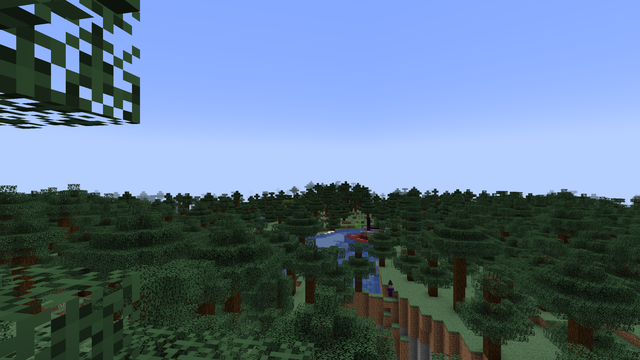slimes: (394, 283, 398, 288)
sorcieres: (388, 282, 392, 297)
